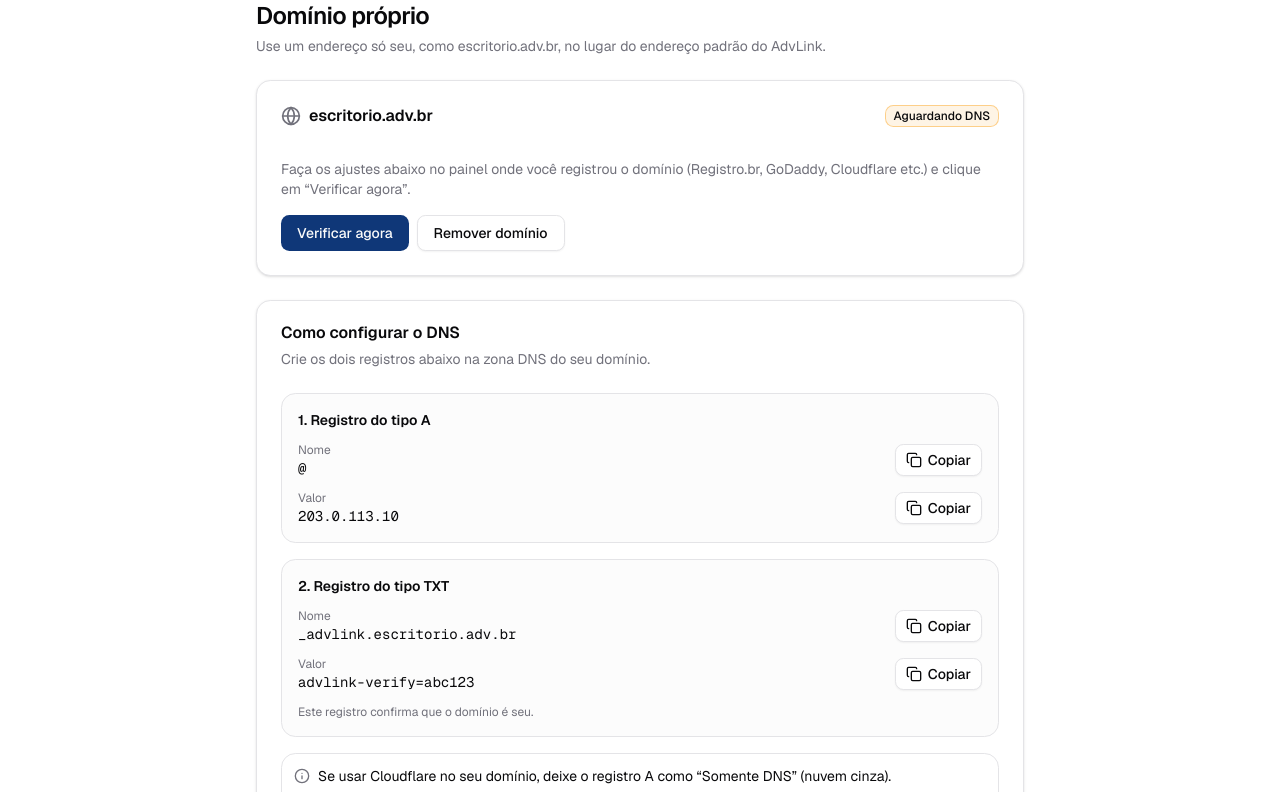
DominioClient › removes the domain after confirmation
Click the button "Remover domínio": click(491, 233) [417, 215, 564, 251]
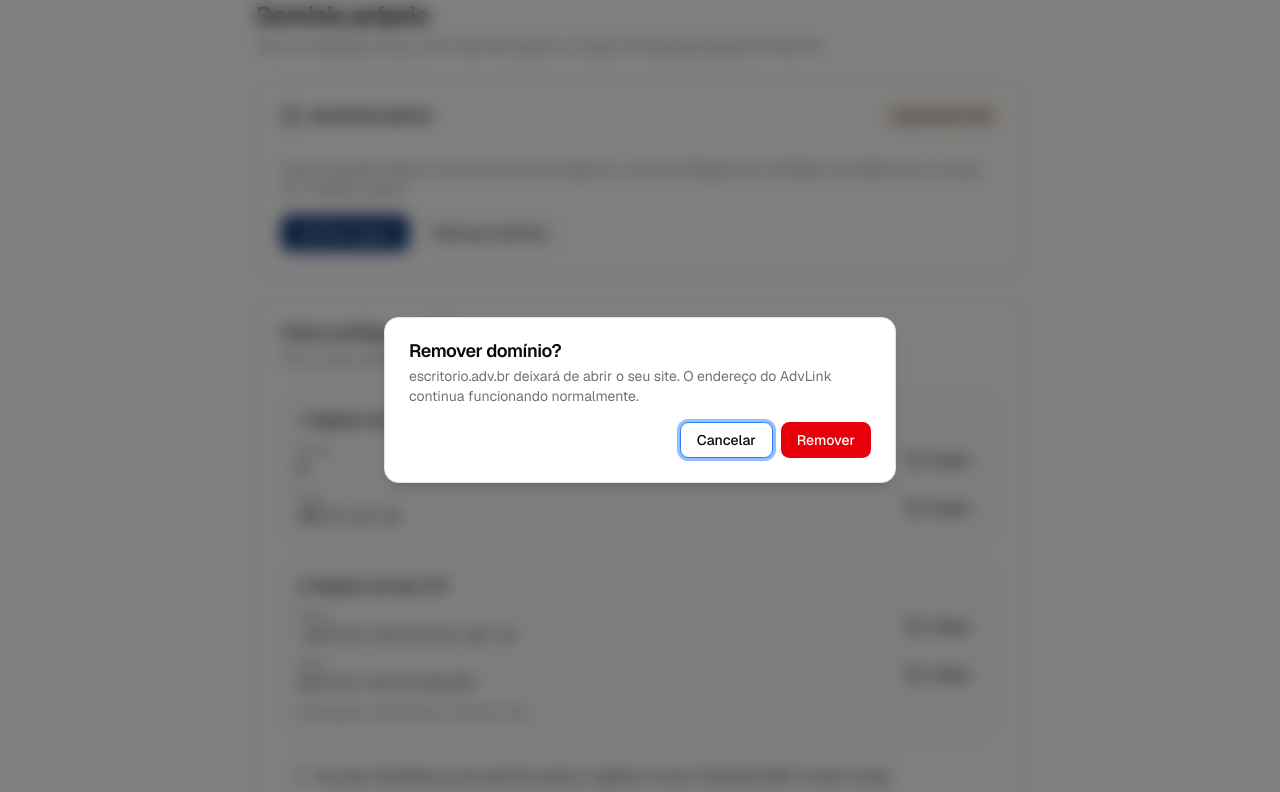
Click the button "Remover": click(826, 440) [781, 422, 871, 458]
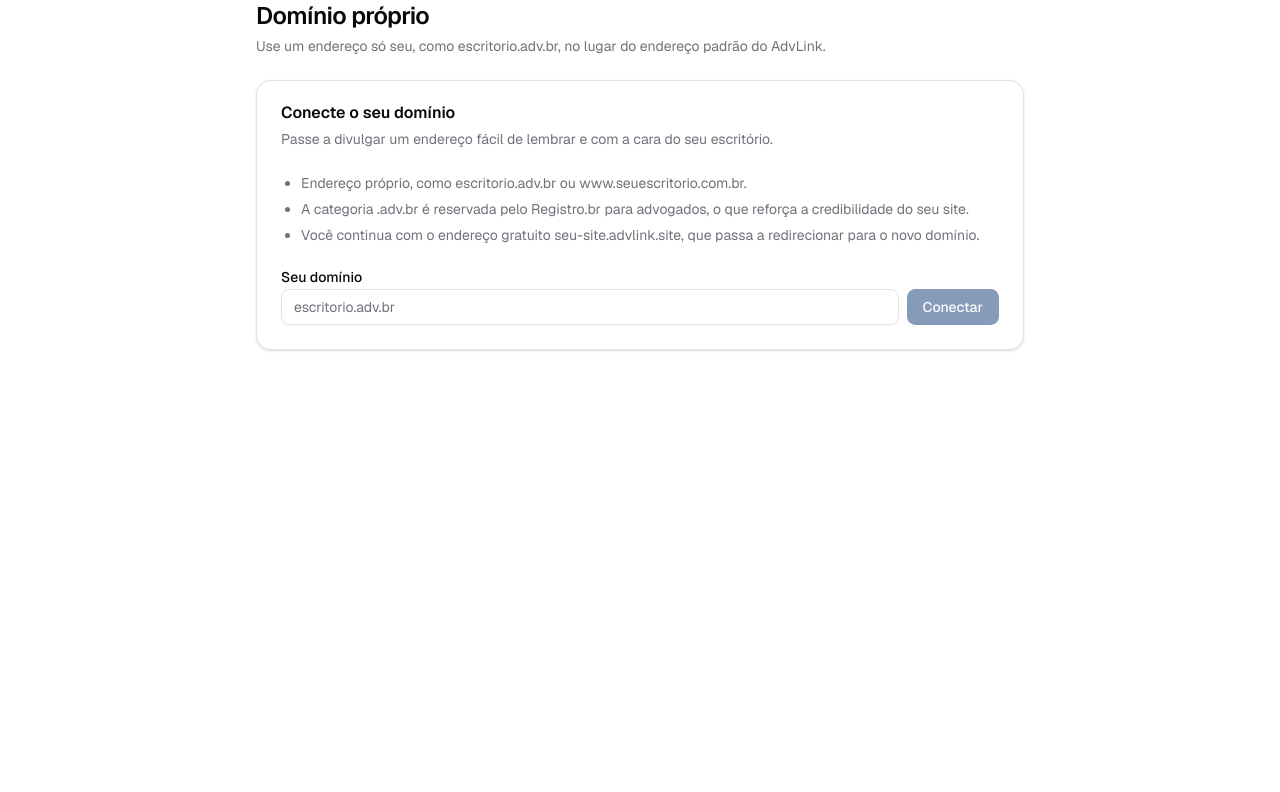
Check: the field labelled "Seu domínio" is shown, box [281, 289, 898, 325]
